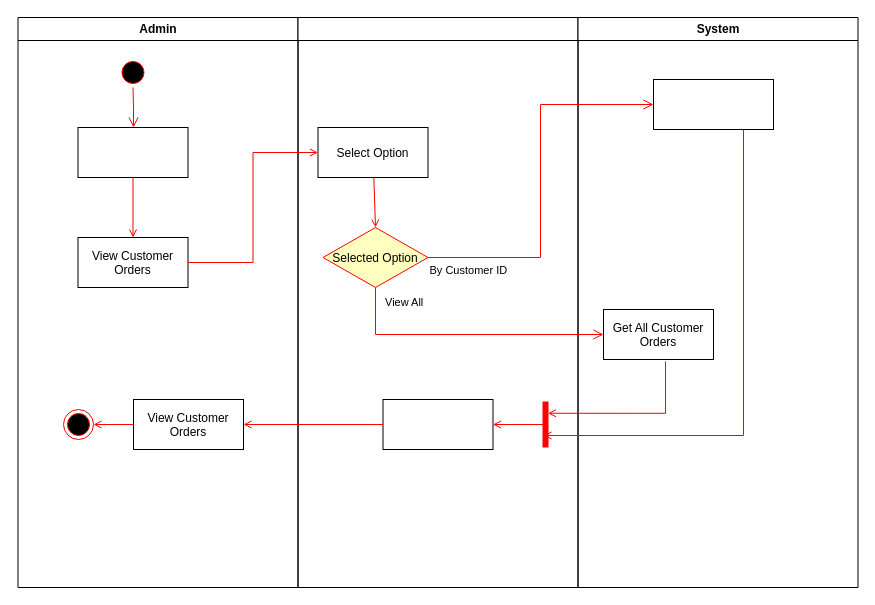
Image size: 875x605. Some labels were removed from this diagram. The shapes that lost their labels are listed below. From the top down, each one's box as (x1, y1, x2, y2) in pixels, then its label:
(652, 78, 774, 130): Get Customer Orders by Customer ID
(77, 126, 188, 178): Admin Options
(297, 16, 578, 588): Interface
(382, 398, 493, 450): View Orders
